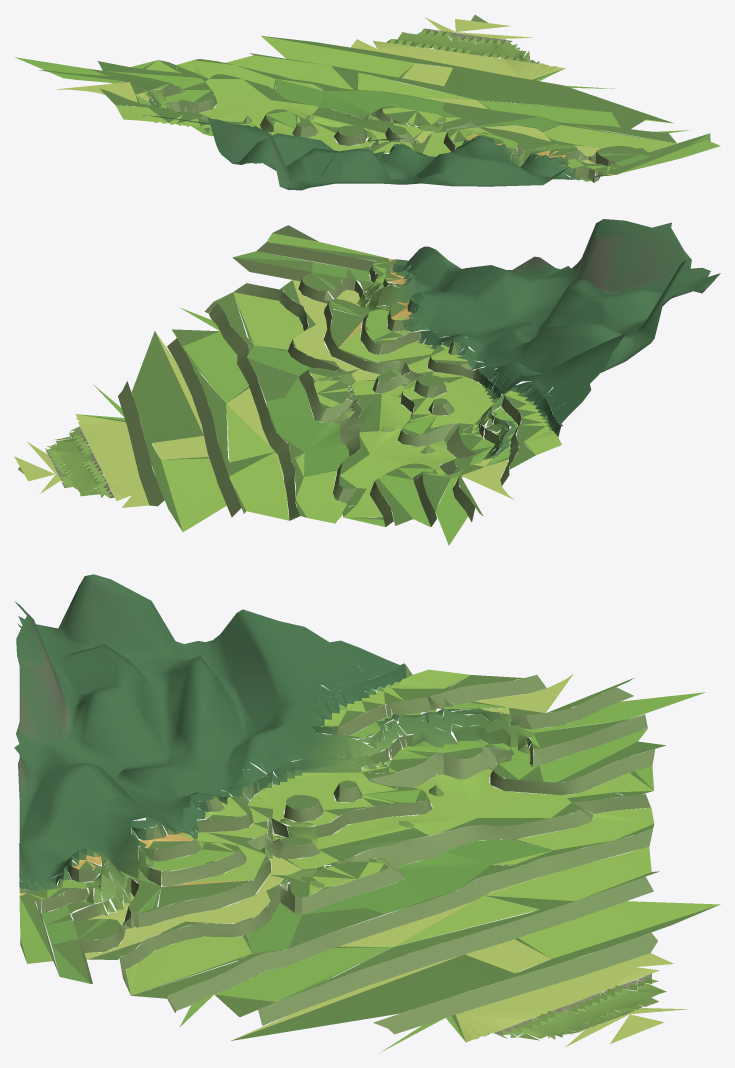
File: payo_land_xm4_y8_lod1.glb
The picture shows the model from 3 angles, top to bottom: view 1: azimuth 30°, elevation 25°; view 2: azimuth 150°, elevation 25°; view 3: azimuth 270°, elevation 25°; orthographic projection. The views are drawn at different scales.
Visible parts, largest first — view 1: payo_land_xm4_y8; view 2: payo_land_xm4_y8; view 3: payo_land_xm4_y8.
Boxes of the visible parts, x1=… form: payo_land_xm4_y8: x1=15, y1=14, x2=720, y2=190; payo_land_xm4_y8: x1=14, y1=219, x2=720, y2=545; payo_land_xm4_y8: x1=14, y1=574, x2=720, y2=1052.
Size of the model in its own units: 288 by 88.16 by 285.
